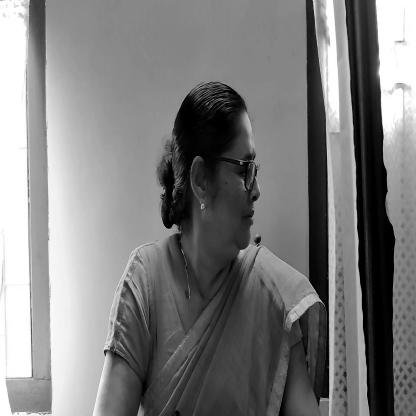Distracted: (172, 84, 272, 263)
